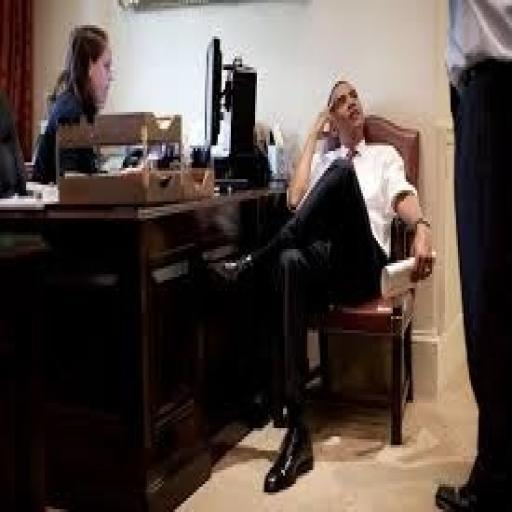sitting: (208, 76, 434, 492)
